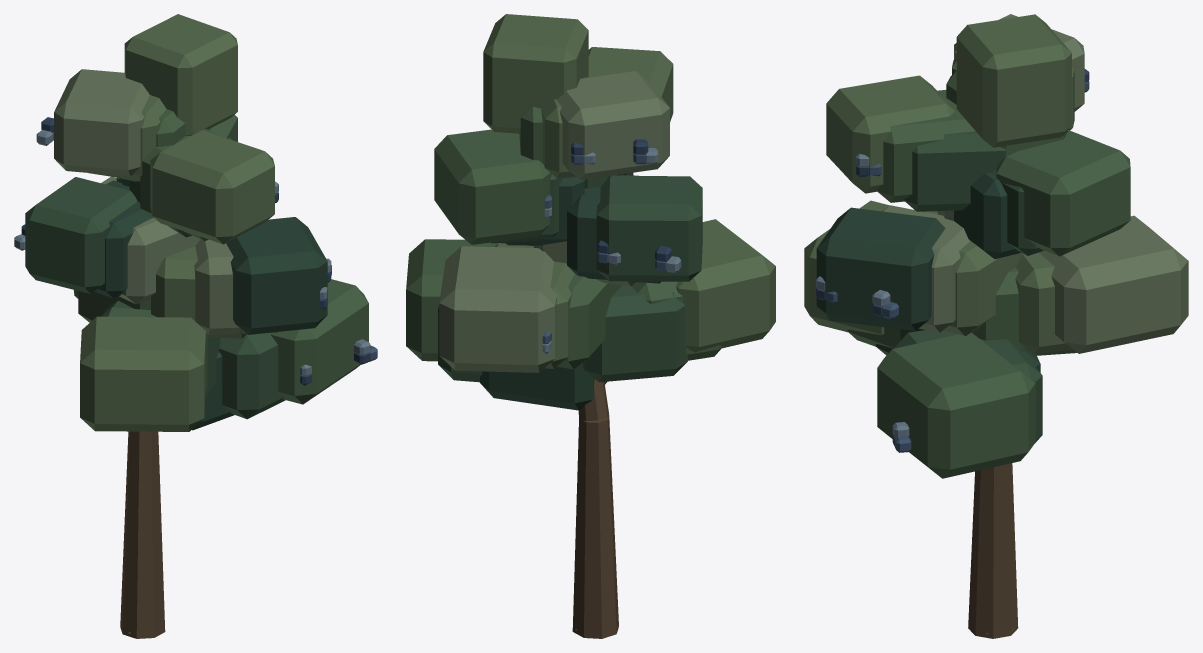
The model's file is juniper_mature.glb.
The picture shows the model from 3 angles, left to right: view 1: azimuth 30°, elevation 25°; view 2: azimuth 150°, elevation 25°; view 3: azimuth 270°, elevation 25°; orthographic projection. The views are drawn at different scales.
Visible parts, largest first — view 1: juniper_mature; view 2: juniper_mature; view 3: juniper_mature.
Part boxes in pixels (x1,y1,x2,y2): juniper_mature: (14, 14, 377, 638); juniper_mature: (406, 14, 775, 638); juniper_mature: (804, 14, 1188, 638).
Bounding box in the file's own units: 6.91 × 12 × 6.75.
